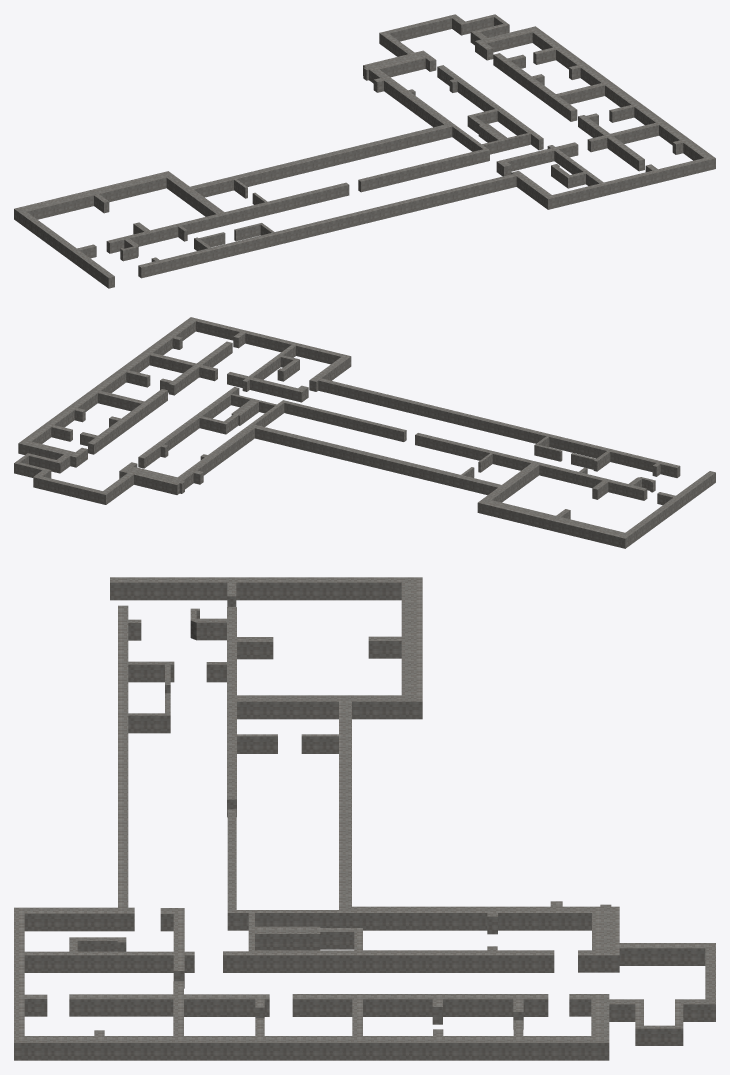
The model's file is GameSceneWalls.obj.
The picture shows the model from 3 angles, top to bottom: view 1: azimuth 30°, elevation 25°; view 2: azimuth 150°, elevation 25°; view 3: azimuth 270°, elevation 25°; orthographic projection. The views are drawn at different scales.
Parts seen in each view (by area): view 1: SceneWalls; view 2: SceneWalls; view 3: SceneWalls.
Boxes of the visible parts, bbox=[...] form: SceneWalls: bbox=[14, 14, 715, 288]; SceneWalls: bbox=[14, 317, 715, 548]; SceneWalls: bbox=[14, 577, 715, 1060].
Bounding box in the file's own units: 420 × 7.4 × 268.
